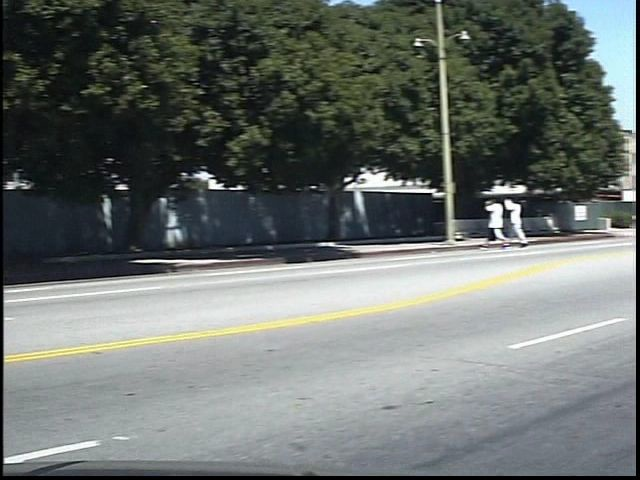person: (497, 191, 523, 253), (519, 193, 545, 252)
